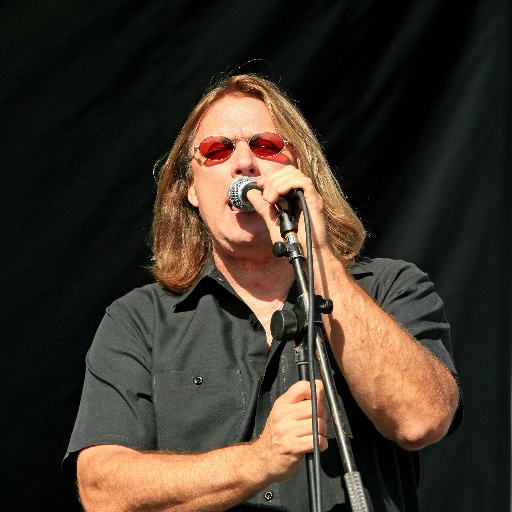hand: (118, 393, 352, 493), (244, 163, 330, 258)
